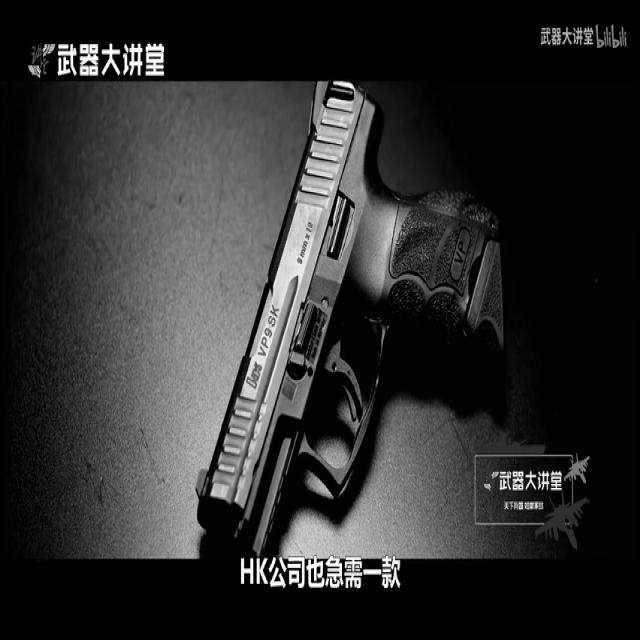Hand-Gun: (160, 77, 545, 608)
